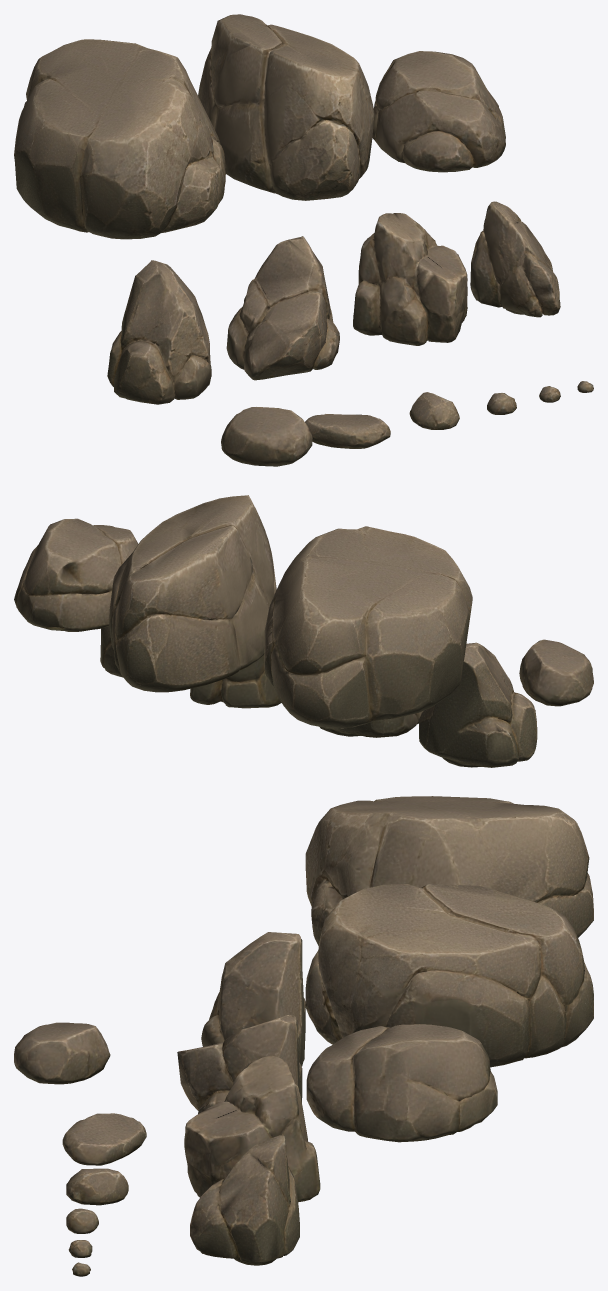
Rendered from rock_boulders.glb.
The picture shows the model from 3 angles, top to bottom: view 1: azimuth 30°, elevation 25°; view 2: azimuth 150°, elevation 25°; view 3: azimuth 270°, elevation 25°; orthographic projection. The views are drawn at different scales.
Parts seen in each view (by area): view 1: tripo_part_3, tripo_part_1, tripo_part_2, tripo_part_0, tripo_part_4, tripo_part_6, tripo_part_5, tripo_part_14, tripo_part_7, tripo_part_9, tripo_part_8; view 2: tripo_part_3, tripo_part_1, tripo_part_2, tripo_part_6, tripo_part_14, tripo_part_0, tripo_part_4, tripo_part_5; view 3: tripo_part_1, tripo_part_3, tripo_part_2, tripo_part_0, tripo_part_5, tripo_part_6, tripo_part_4, tripo_part_14, tripo_part_7, tripo_part_9, tripo_part_11.
Part boxes in pixels (box(x1,y1,x2,y2)): tripo_part_3: box(14, 39, 225, 239); tripo_part_1: box(198, 14, 374, 200); tripo_part_2: box(372, 51, 505, 172); tripo_part_0: box(353, 213, 467, 345); tripo_part_4: box(226, 236, 339, 380); tripo_part_6: box(107, 260, 211, 404); tripo_part_5: box(470, 201, 560, 317); tripo_part_14: box(221, 407, 312, 466); tripo_part_7: box(305, 414, 390, 448); tripo_part_9: box(409, 392, 459, 429); tripo_part_8: box(174, 354, 211, 399); tripo_part_3: box(264, 526, 472, 728); tripo_part_1: box(109, 495, 276, 692); tripo_part_2: box(14, 518, 138, 631); tripo_part_6: box(419, 642, 537, 767); tripo_part_14: box(519, 639, 593, 706); tripo_part_0: box(190, 654, 281, 708); tripo_part_4: box(324, 711, 423, 737); tripo_part_5: box(100, 626, 122, 677); tripo_part_1: box(305, 884, 593, 1067); tripo_part_3: box(305, 796, 593, 945); tripo_part_2: box(306, 1024, 497, 1142); tripo_part_0: box(184, 1056, 320, 1202); tripo_part_5: box(190, 1135, 299, 1265); tripo_part_6: box(209, 932, 305, 1066); tripo_part_4: box(177, 1015, 302, 1113); tripo_part_14: box(14, 1022, 110, 1084); tripo_part_7: box(62, 1113, 146, 1165); tripo_part_9: box(66, 1168, 128, 1205); tripo_part_11: box(66, 1208, 98, 1233).
Bounding box in the file's own units: 1 × 0.5969 × 1.
Materials: 1 (1 with a texture image).
